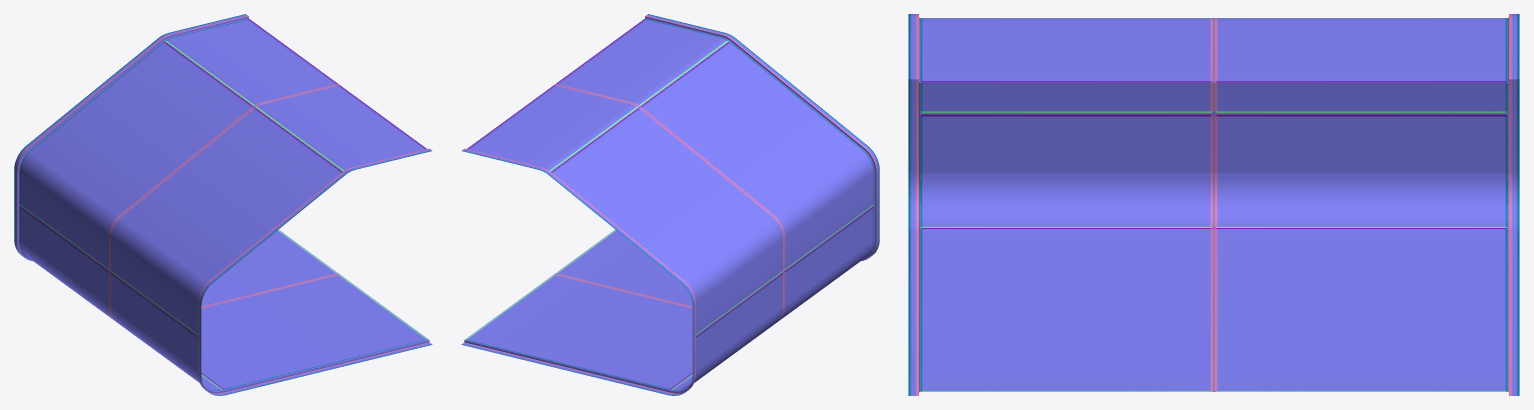
File: Corridor_Curved_01.FBX
The picture shows the model from 3 angles, left to right: view 1: azimuth 30°, elevation 25°; view 2: azimuth 150°, elevation 25°; view 3: azimuth 270°, elevation 25°; orthographic projection. The views are drawn at different scales.
Visible parts, largest first — view 1: Corridor_Curved_01; view 2: Corridor_Curved_01; view 3: Corridor_Curved_01.
Boxes of the visible parts, x1,y1,x2,y2 form: Corridor_Curved_01: [14, 14, 432, 395]; Corridor_Curved_01: [461, 14, 879, 395]; Corridor_Curved_01: [908, 14, 1519, 395].
Bounding box in the file's own units: 10 × 8 × 14.
Materials: 1 (1 with a texture image).
